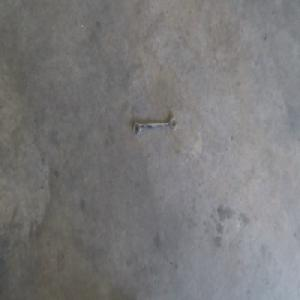Wrench: (132, 116, 177, 135)
